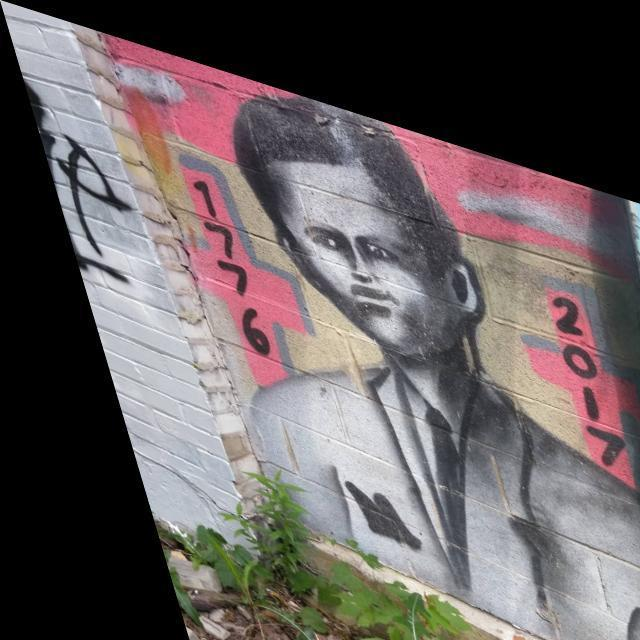-: (74, 22, 640, 640)
